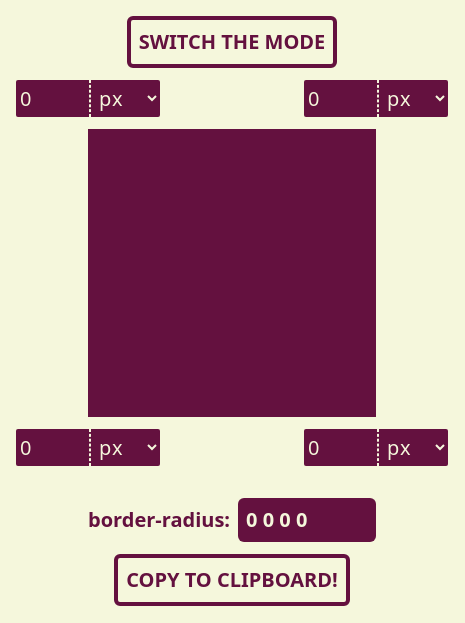
App in normal mode › should show the current value in the output field
The width and height of the screenshot is (465, 623).
Type "52" into the number field named "top-left" at {"x": 53, "y": 98}, box [16,80,90,117]
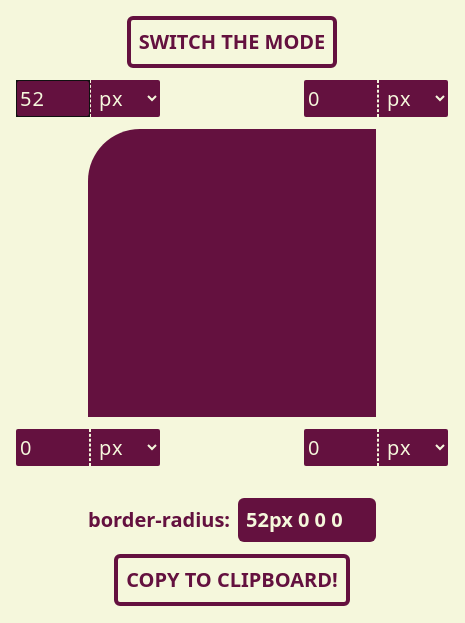
Type "89" into the number field named "top-right" at {"x": 341, "y": 98}, box [304,80,378,117]
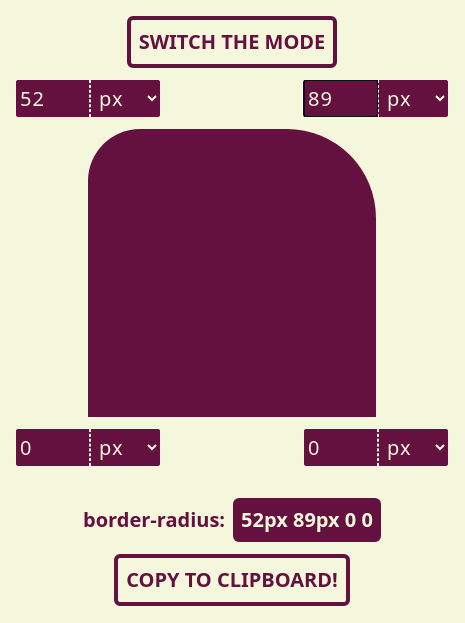
Type "3" into the number field named "bottom-right" at {"x": 341, "y": 448}, box [304,429,378,466]
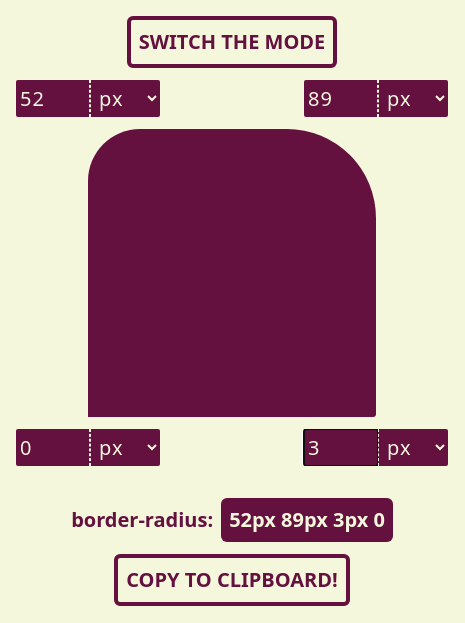
Type "98" into the number field named "bottom-left" at {"x": 53, "y": 448}, box [16,429,90,466]
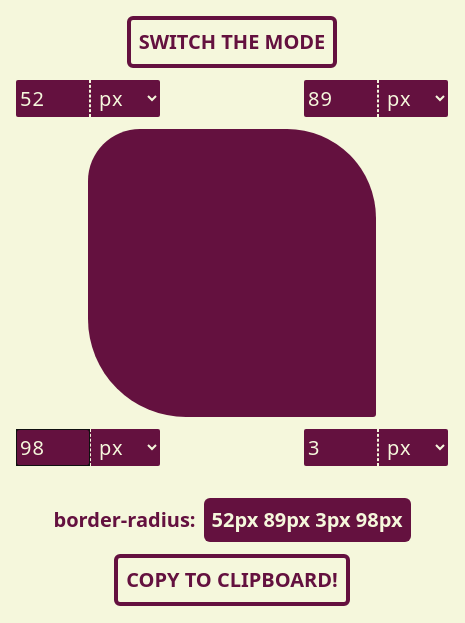
Expected: the text named "output" reads "52px 89px 3px 98px", [212,506,402,533]
